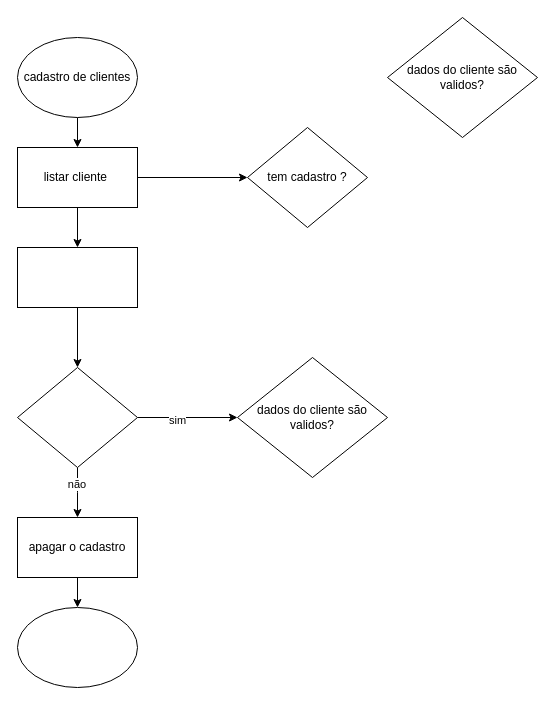
This 555x705 diagram has some shape labels left out. Here are the shapes that lost their labels. From the top down, the centre of each, then its label:
At point 77,277: "buscar cliente".
At point 77,417: "atualizar cadastro?".
At point 77,647: "fim".
